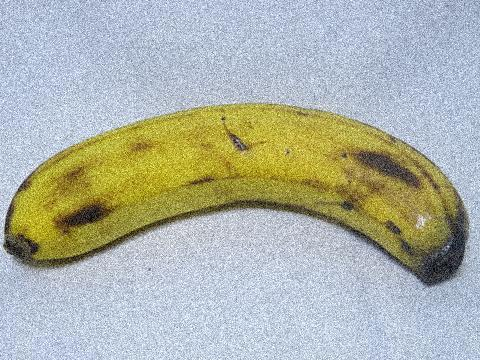ripe: (9, 84, 479, 297)
